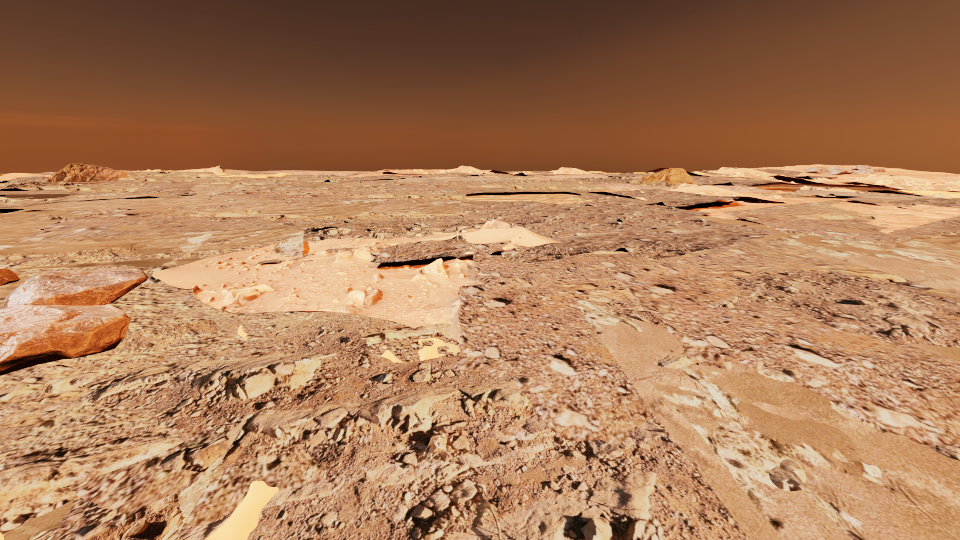bedrock: (0, 323, 748, 539), (182, 172, 776, 262), (703, 262, 959, 346), (0, 178, 197, 207), (106, 286, 230, 332), (558, 278, 664, 325), (755, 187, 959, 207), (370, 235, 481, 262), (275, 172, 542, 182), (160, 436, 228, 473), (653, 351, 735, 369), (769, 459, 806, 491), (691, 176, 769, 191), (767, 211, 880, 221), (117, 171, 229, 181), (344, 193, 478, 201), (9, 267, 102, 277), (459, 184, 606, 190), (755, 169, 836, 178), (929, 443, 959, 460), (268, 171, 366, 176), (924, 217, 959, 225), (280, 190, 328, 194), (197, 181, 250, 184), (721, 177, 770, 180), (699, 171, 728, 175), (258, 259, 285, 263), (326, 248, 353, 252), (45, 214, 61, 219), (940, 230, 959, 234), (0, 297, 6, 307), (926, 235, 945, 238)
hole: (762, 187, 797, 190)
rocks: (0, 267, 147, 375), (46, 163, 127, 181), (641, 168, 695, 184), (804, 165, 885, 174), (0, 266, 19, 285)
sand: (576, 301, 959, 539), (0, 182, 461, 268), (675, 191, 959, 298), (177, 411, 251, 532), (204, 481, 278, 539), (748, 164, 959, 182), (0, 500, 73, 539), (465, 192, 595, 204), (906, 343, 959, 361), (193, 169, 312, 177), (418, 338, 459, 359), (271, 236, 311, 257), (887, 188, 959, 197), (0, 277, 31, 297), (769, 182, 882, 187), (349, 169, 403, 176), (381, 350, 404, 362), (300, 312, 314, 327), (237, 325, 246, 338), (687, 251, 709, 255)
soil: (0, 200, 959, 444), (62, 425, 226, 516), (16, 208, 436, 243), (206, 172, 641, 205), (185, 452, 326, 527), (0, 247, 178, 268), (72, 176, 347, 188), (805, 183, 959, 196), (99, 404, 158, 420), (701, 173, 788, 182), (546, 229, 608, 240), (163, 204, 251, 210), (747, 183, 803, 192), (795, 179, 866, 185), (400, 171, 467, 177), (14, 172, 56, 181), (0, 190, 94, 194), (124, 170, 214, 174), (843, 197, 885, 205), (244, 170, 320, 174), (460, 201, 503, 206), (487, 220, 507, 228), (428, 232, 460, 236), (0, 209, 23, 213), (203, 240, 229, 243), (713, 184, 734, 187), (718, 200, 736, 203), (328, 171, 364, 172)
